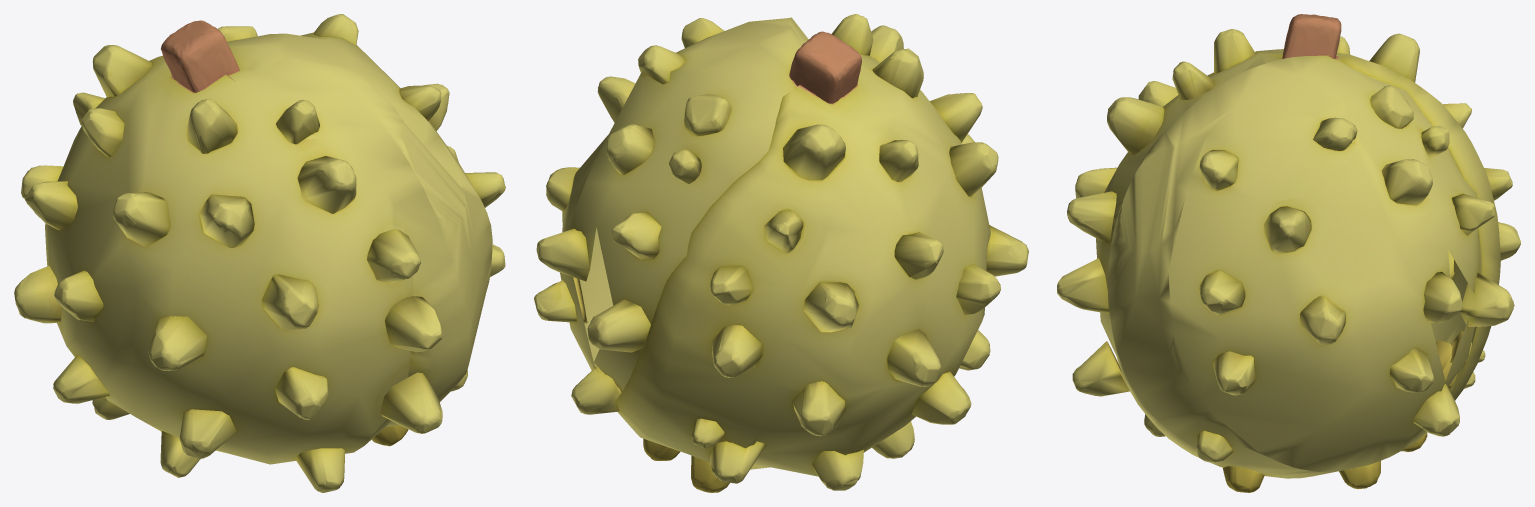
Rendered from durian.glb.
The picture shows the model from 3 angles, left to right: view 1: azimuth 30°, elevation 25°; view 2: azimuth 150°, elevation 25°; view 3: azimuth 270°, elevation 25°; orthographic projection. The views are drawn at different scales.
Visible parts, largest first — view 1: tripo_node_d2f6be83-bac1-4f49-b1db-b8d34fee50bf; view 2: tripo_node_d2f6be83-bac1-4f49-b1db-b8d34fee50bf; view 3: tripo_node_d2f6be83-bac1-4f49-b1db-b8d34fee50bf.
Boxes of the visible parts, <box> form: tripo_node_d2f6be83-bac1-4f49-b1db-b8d34fee50bf: <box>14,14,505,492</box>; tripo_node_d2f6be83-bac1-4f49-b1db-b8d34fee50bf: <box>534,14,1028,492</box>; tripo_node_d2f6be83-bac1-4f49-b1db-b8d34fee50bf: <box>1057,14,1520,492</box>.
Size of the model in its own units: 0.998 by 0.9746 by 0.998.
1 material, 1 textured.
